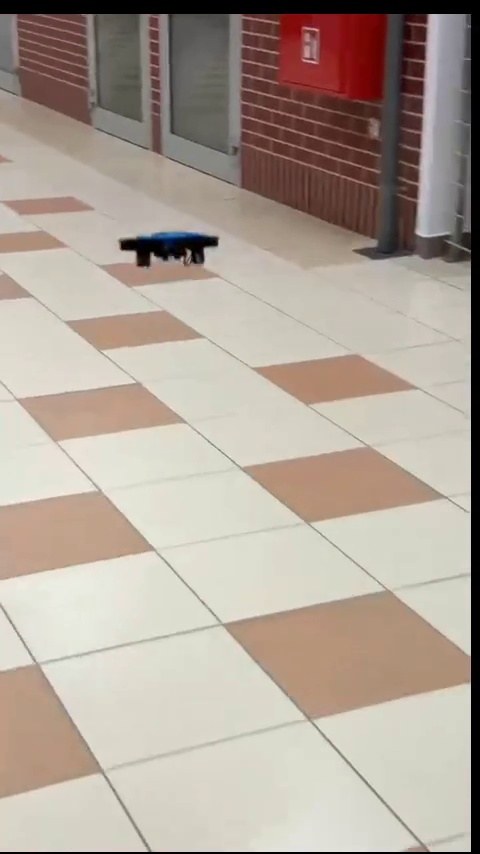drone: (120, 226, 228, 274)
